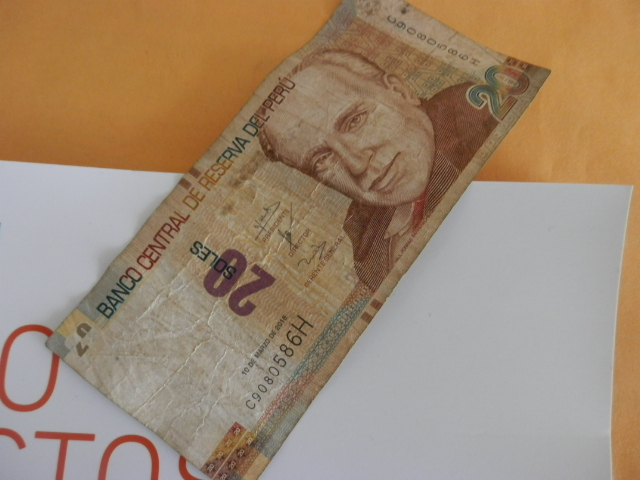B20: (64, 12, 544, 474)
